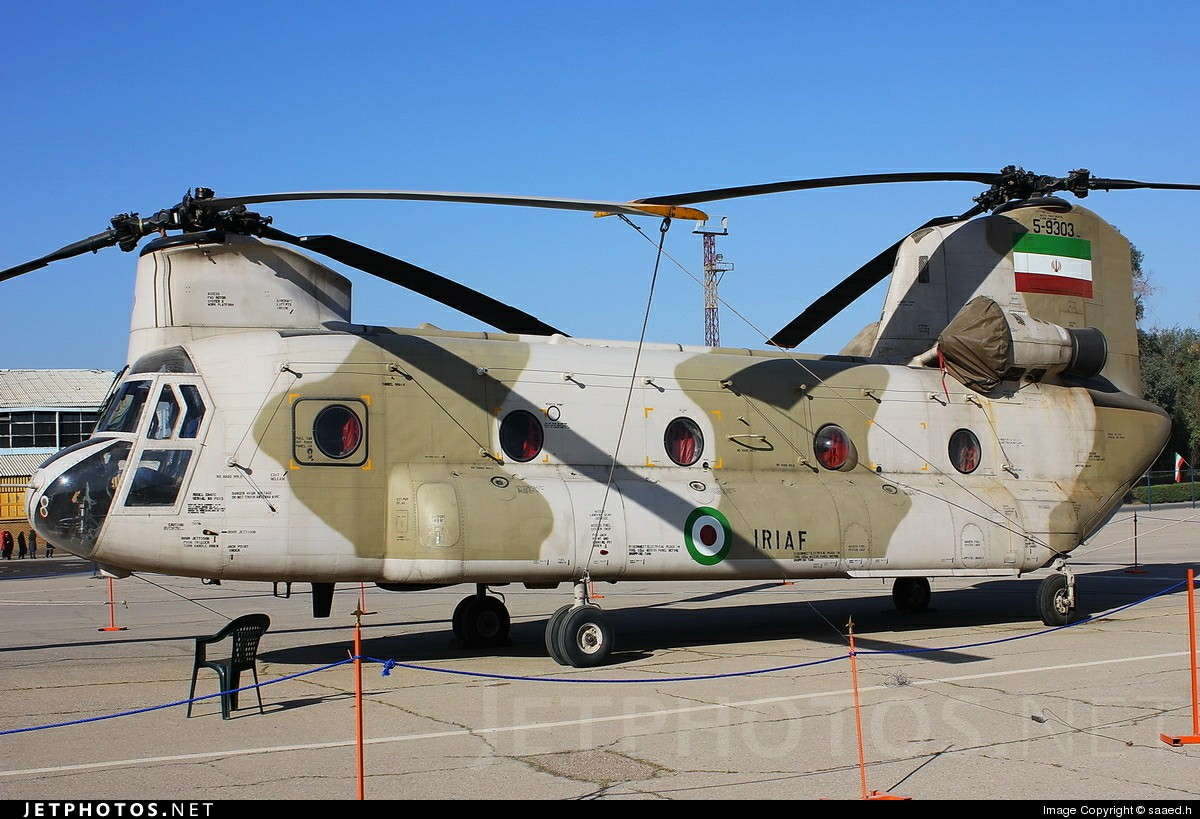chinook: (26, 99, 1179, 671)
iran: (1005, 227, 1104, 300)
